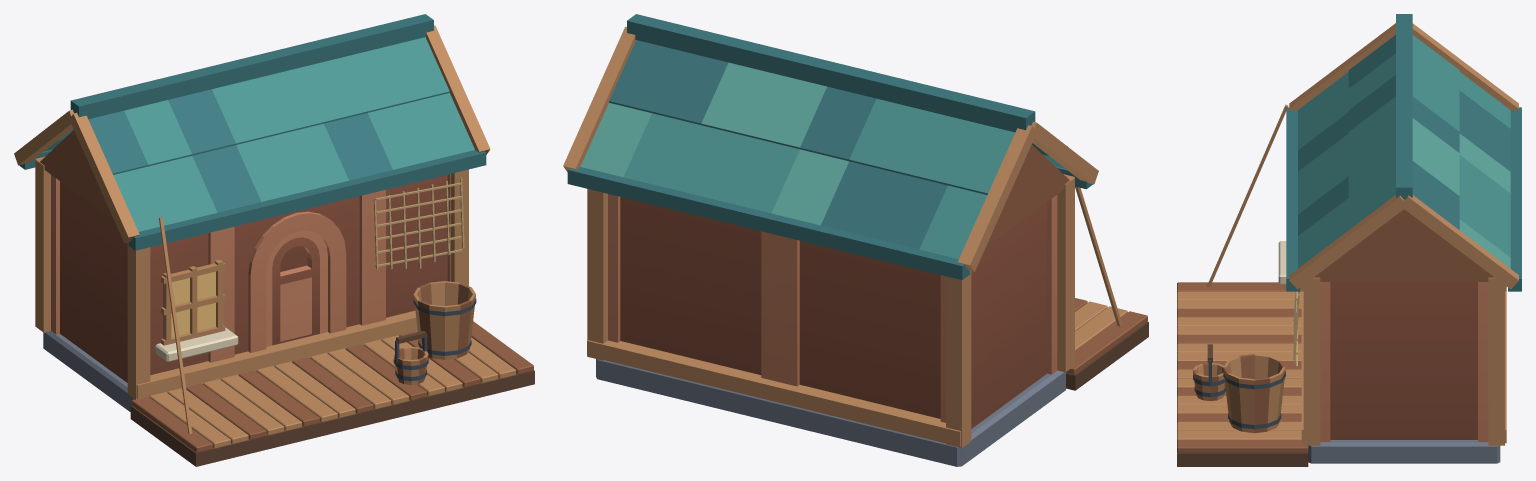
File: fishing_hut.glb
The picture shows the model from 3 angles, left to right: view 1: azimuth 30°, elevation 25°; view 2: azimuth 150°, elevation 25°; view 3: azimuth 270°, elevation 25°; orthographic projection. The views are drawn at different scales.
Visible parts, largest first — view 1: fishing_hut_建筑共用调色板, fishing_hut_fantasy-town-kit 调色板; view 2: fishing_hut_建筑共用调色板, fishing_hut_fantasy-town-kit 调色板; view 3: fishing_hut_建筑共用调色板, fishing_hut_fantasy-town-kit 调色板.
Boxes of the visible parts, bbox=[...] form: fishing_hut_建筑共用调色板: bbox=[14, 14, 534, 466]; fishing_hut_fantasy-town-kit 调色板: bbox=[51, 174, 450, 382]; fishing_hut_建筑共用调色板: bbox=[563, 14, 1148, 466]; fishing_hut_fantasy-town-kit 调色板: bbox=[608, 194, 1057, 428]; fishing_hut_建筑共用调色板: bbox=[1177, 14, 1521, 466]; fishing_hut_fantasy-town-kit 调色板: bbox=[1320, 282, 1488, 441].
Bounding box in the file's own units: 4.54 × 3.38 × 3.74.
2 materials, 2 textured.
